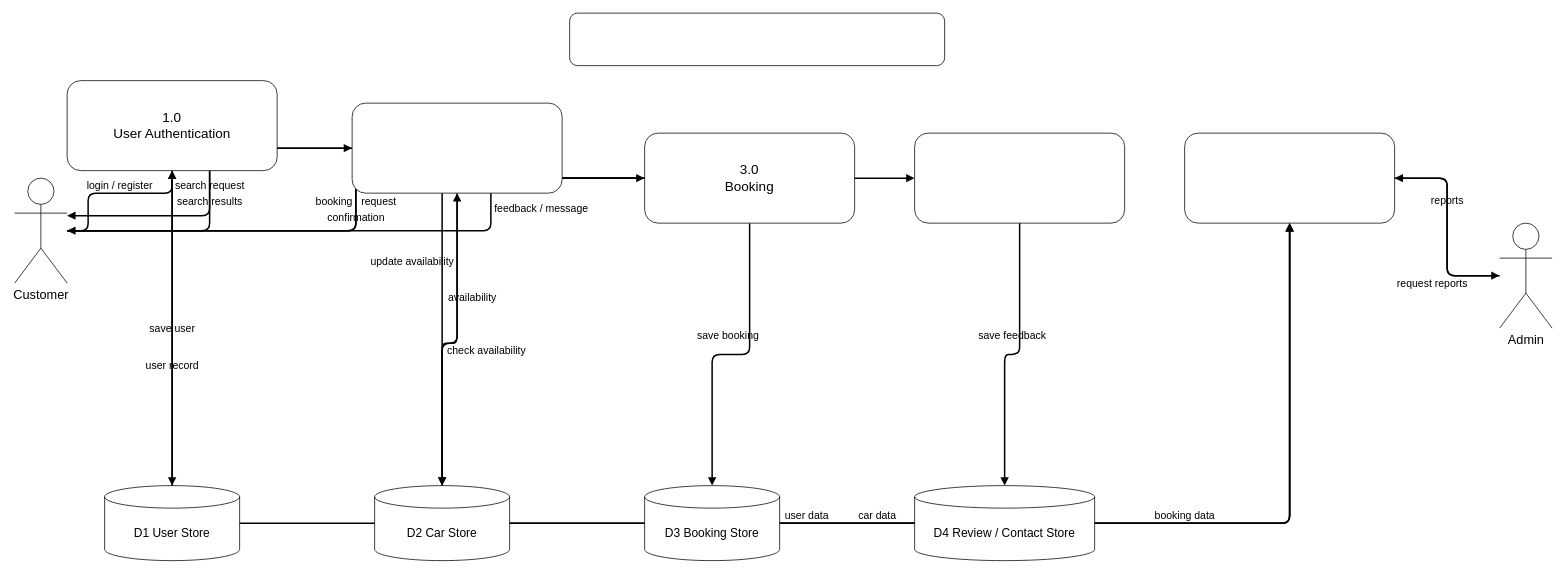
Image size: 1565x574. Some labels were removed from this diagram. The shapes that lost their labels are listed below. From the top down, each one's box as (x1, y1, x2, y2) in pixels, then its label:
(569, 12, 945, 66): DriveEase Car Rental System DFD Level 1
(351, 102, 562, 193): 2.0 Car Search
(914, 132, 1125, 223): 4.0 Review / Contact
(1184, 132, 1395, 223): 5.0 Admin Dashboard
